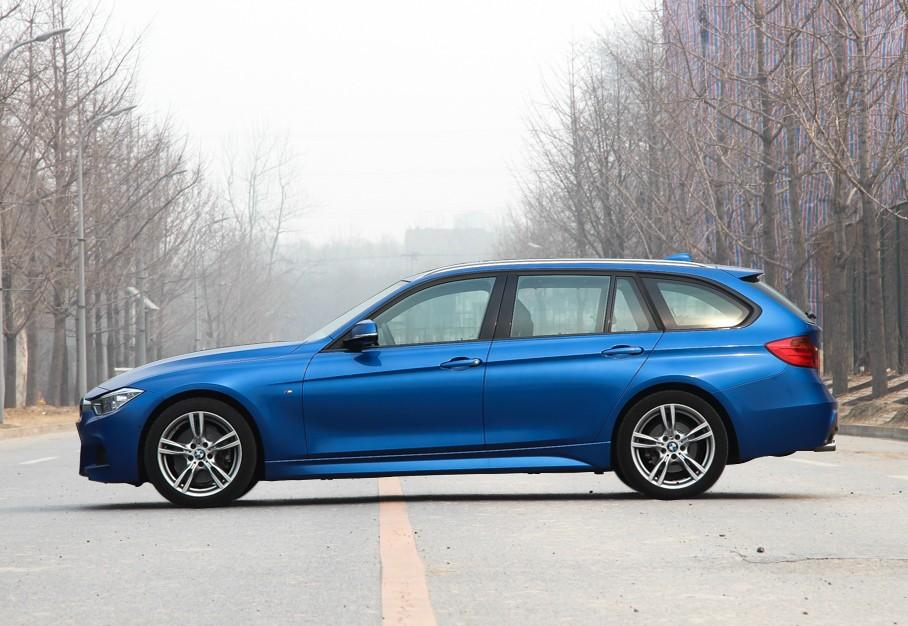Wagon: (78, 252, 834, 508)
